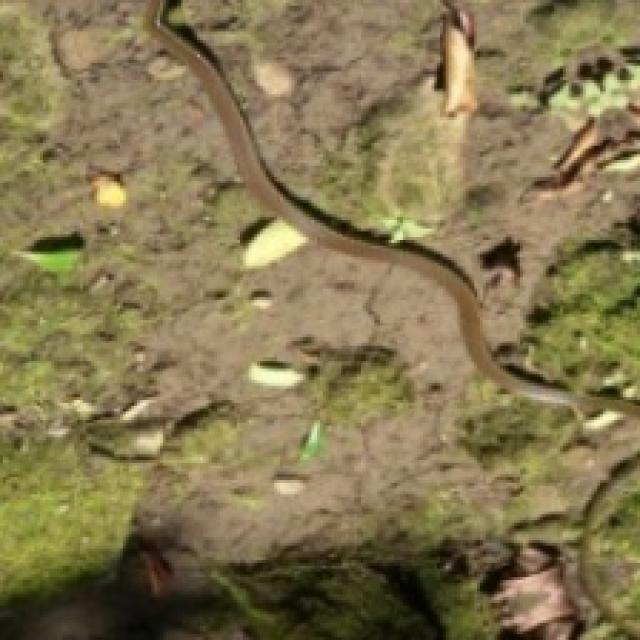philippine bronzeback treesnake: (146, 0, 637, 637)
